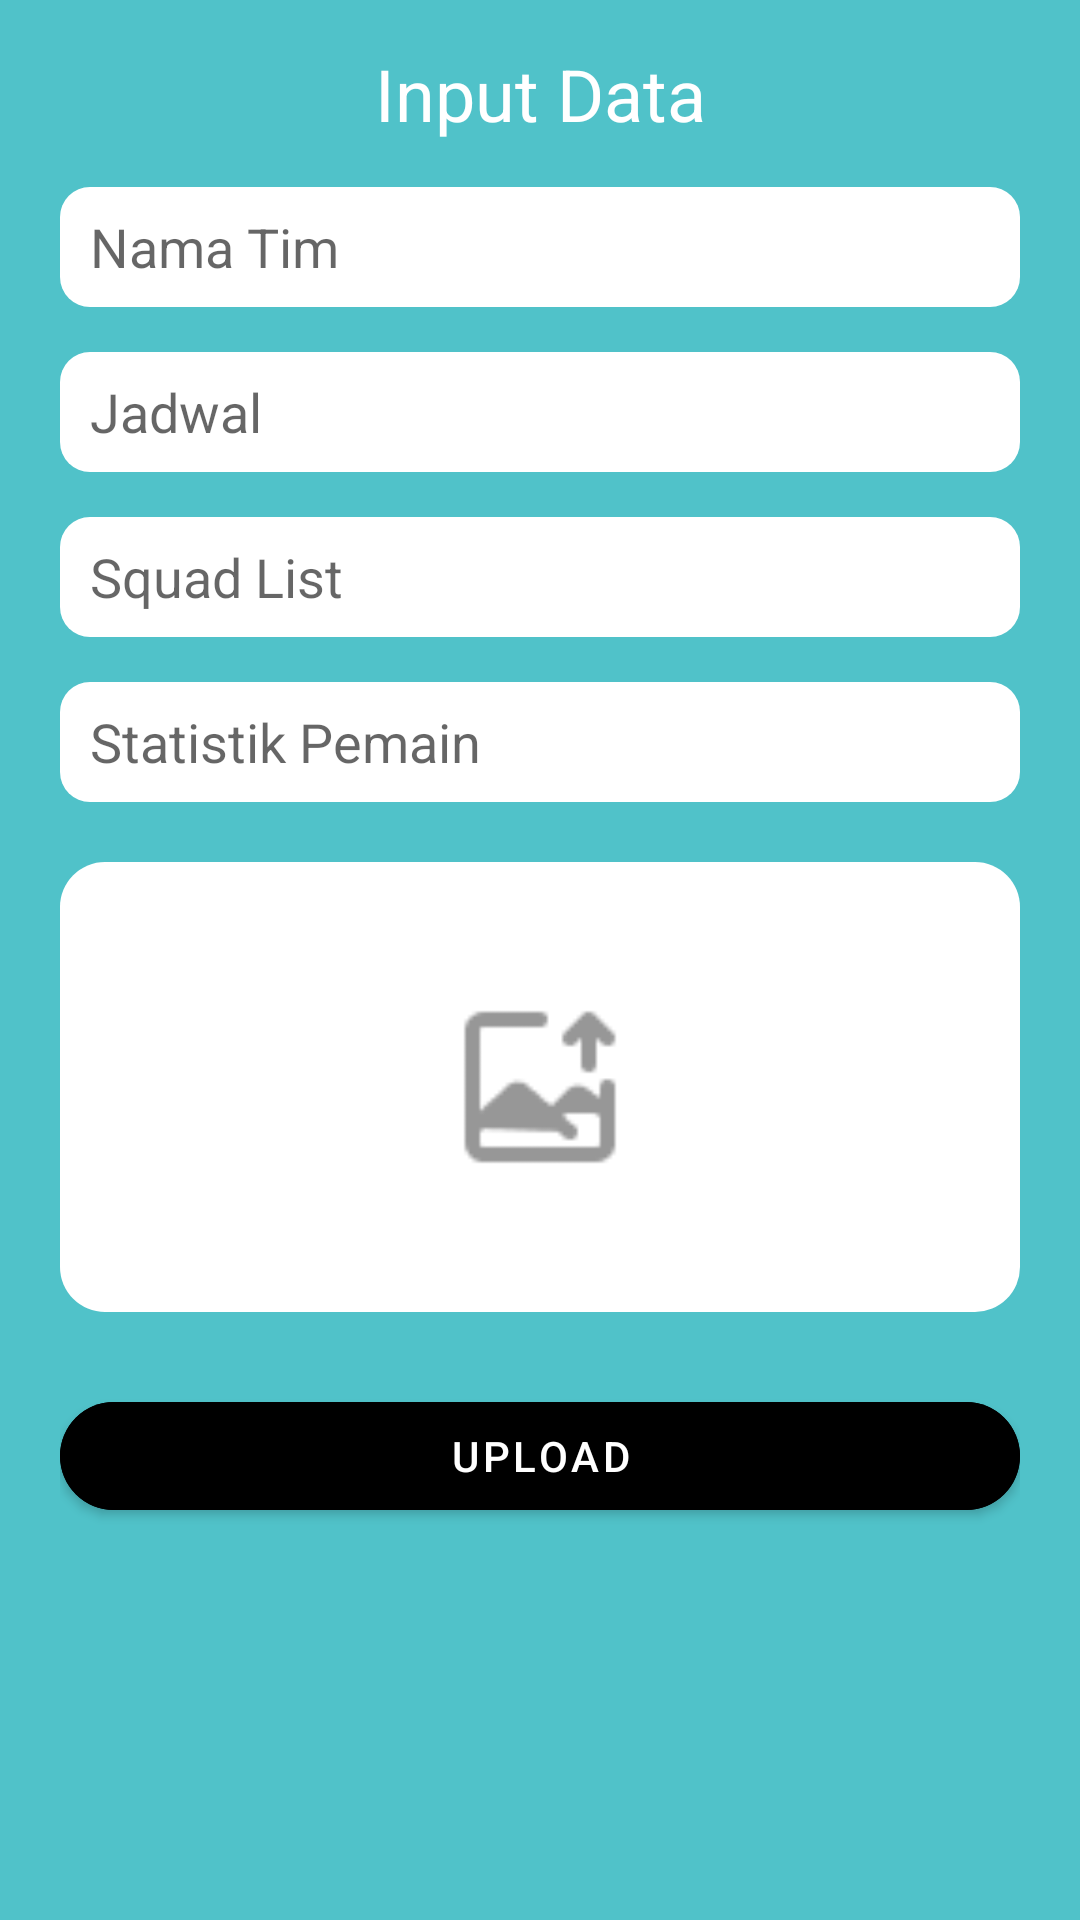

Screen size 1080px×1920px. Icon name, then its center in pixels as point (x, y):
upload: point (540, 1087)
